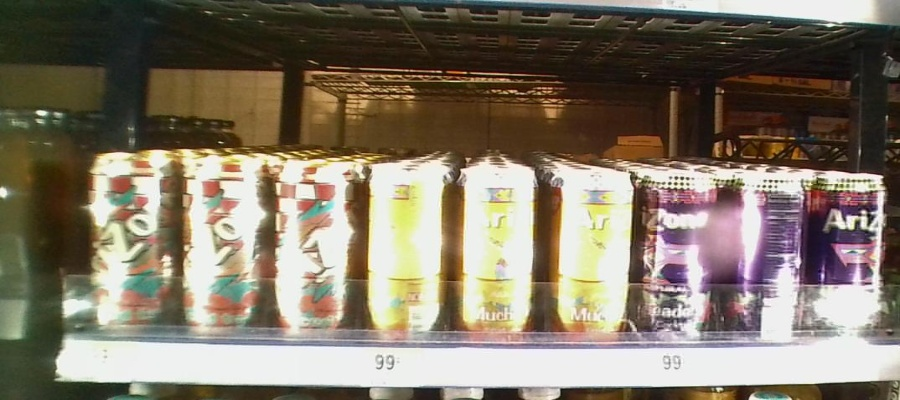bottle: (88, 146, 178, 337), (362, 150, 451, 338), (272, 145, 357, 337), (184, 145, 268, 335), (456, 148, 538, 340), (550, 154, 634, 340), (729, 164, 810, 349), (643, 161, 720, 339), (813, 161, 889, 339)
